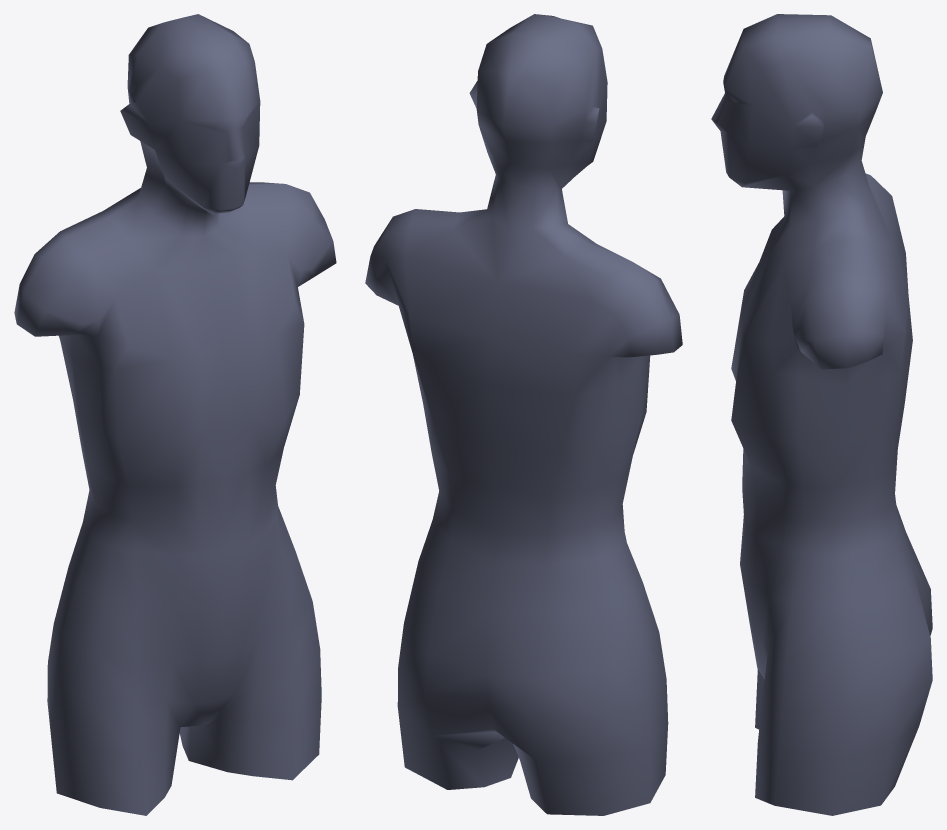
File: s0_Mannequin_02.glb
3 renders of one model, left to right at view 1: azimuth 30°, elevation 25°; view 2: azimuth 150°, elevation 25°; view 3: azimuth 270°, elevation 25°, orthographic.
Visible parts, largest first — view 1: node_Mannequin; view 2: node_Mannequin; view 3: node_Mannequin.
Part boxes in pixels (bbox=[...]): node_Mannequin: bbox=[14, 14, 336, 815]; node_Mannequin: bbox=[365, 14, 682, 815]; node_Mannequin: bbox=[711, 14, 932, 815].
Bounding box in the file's own units: 0.6703 × 1.55 × 0.4208.
